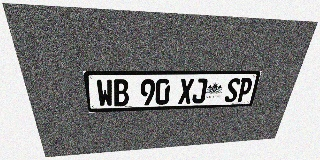0: (155, 79, 170, 105)
9: (141, 79, 155, 105)
B: (113, 79, 129, 106)
J: (191, 78, 208, 104)
P: (236, 78, 254, 102)
S: (224, 78, 241, 102)
W: (96, 79, 114, 107)
X: (178, 78, 194, 104)
